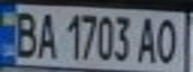0: (96, 11, 115, 61)
1: (60, 10, 81, 61)
3: (112, 12, 136, 63)
7: (78, 10, 96, 61)
A: (133, 13, 160, 64), (33, 9, 60, 60)
B: (9, 7, 39, 60)
O: (154, 14, 181, 65)
